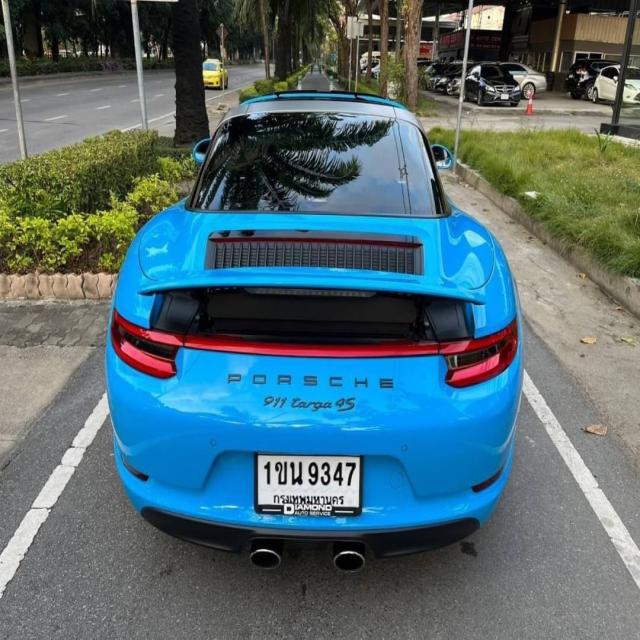license_plate: (251, 442, 368, 528)
